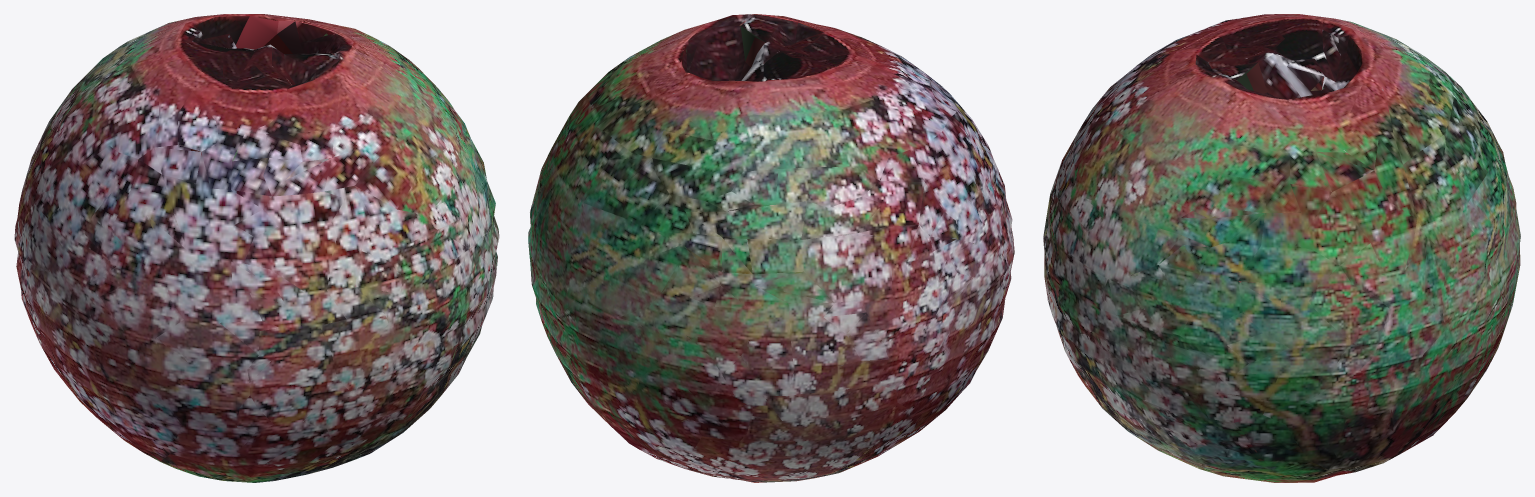
File: AT1 ChanLim Flowers1.glb
3 views of the same model, side by side, from view 1: azimuth 30°, elevation 25°; view 2: azimuth 150°, elevation 25°; view 3: azimuth 270°, elevation 25° (orthographic).
Size of the model in its own units: 1000 by 971 by 996.
Materials: 1 (1 with a texture image).
